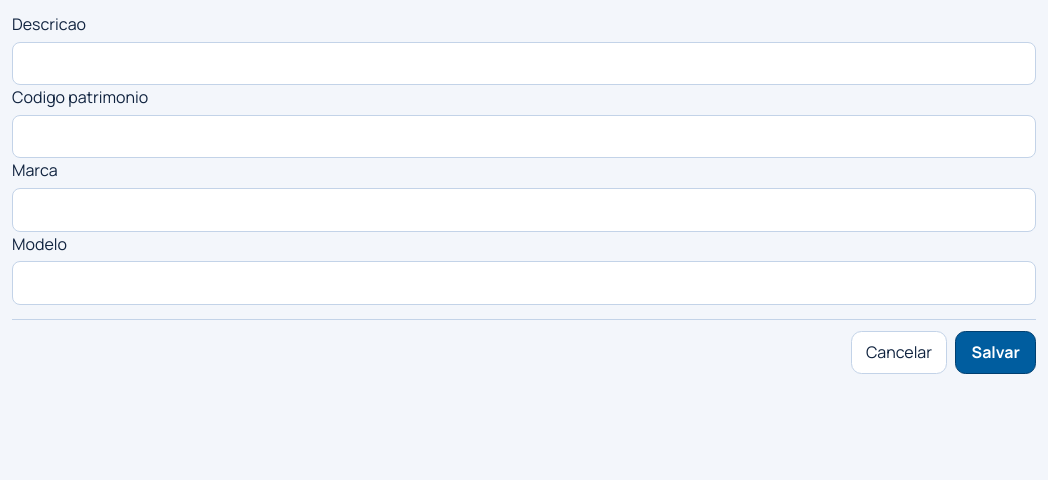
Test case: HardwareForm › validates required descricao before submit
Type "PAT-001" into the field labelled "Codigo patrimonio". click: (524, 137)
box: [12,115,1036,158]
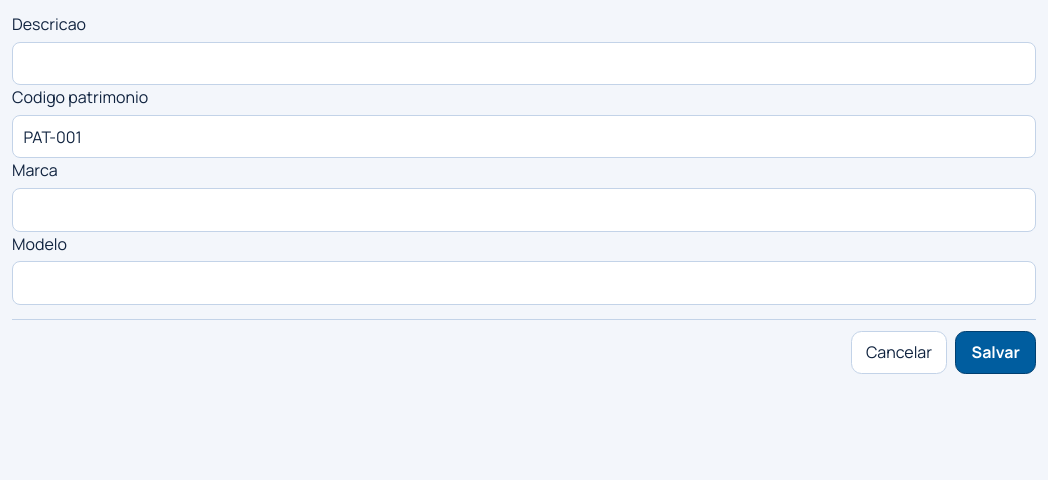
Click the button "Salvar". click: (996, 352)
box: [955,330,1036,374]
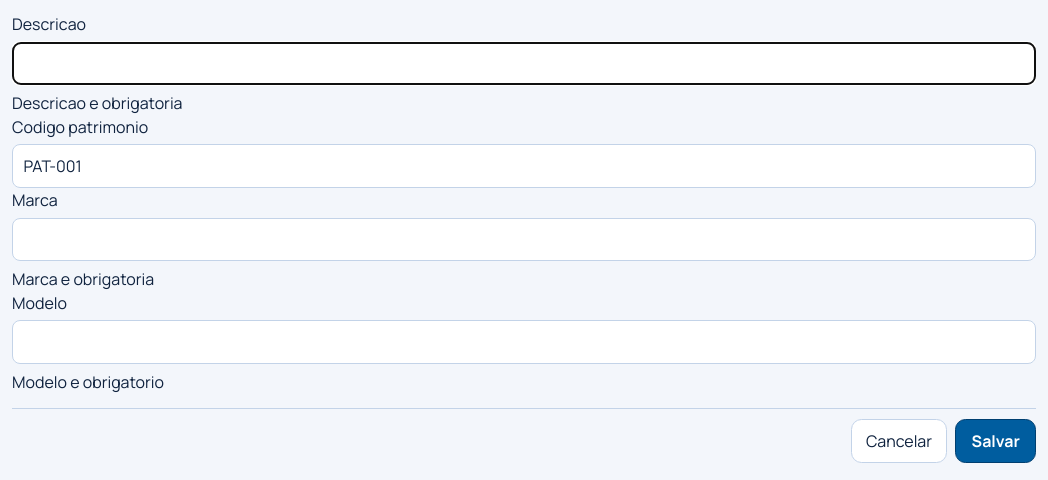
Expected: the text "Descricao e obrigatoria" is shown, [12,92,182,114]
